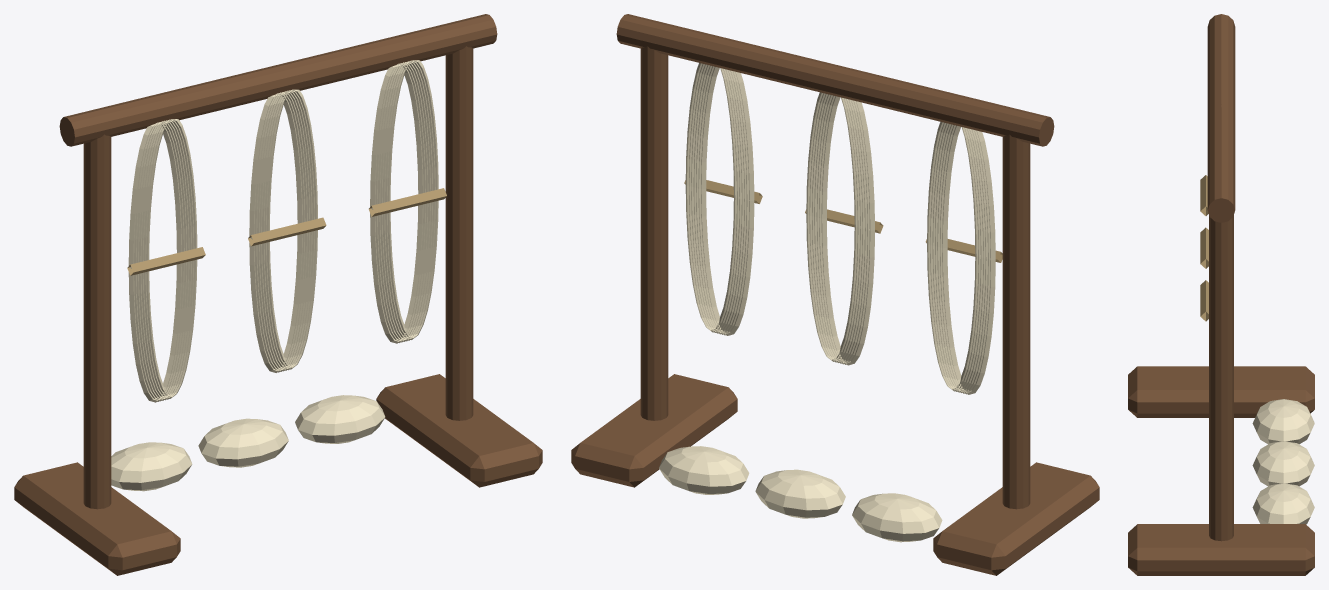
The picture shows the model from 3 angles, left to right: view 1: azimuth 30°, elevation 25°; view 2: azimuth 150°, elevation 25°; view 3: azimuth 270°, elevation 25°; orthographic projection. The views are drawn at different scales.
Parts seen in each view (by area): view 1: BA-0053 batched; view 2: BA-0053 batched; view 3: BA-0053 batched.
Part boxes in pixels (box(x1,y1,x2,y2)): BA-0053 batched: box(14, 14, 542, 575); BA-0053 batched: box(571, 14, 1099, 575); BA-0053 batched: box(1128, 14, 1314, 575).
Size of the model in its own units: 0.72 by 0.672 by 0.3.
